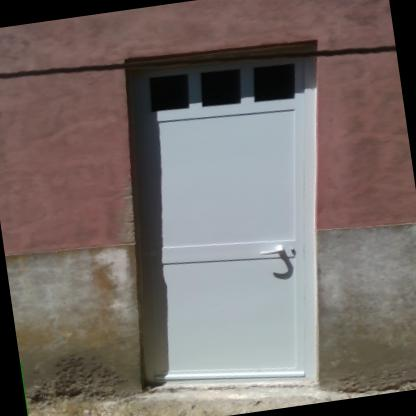closed: (90, 21, 367, 415)
